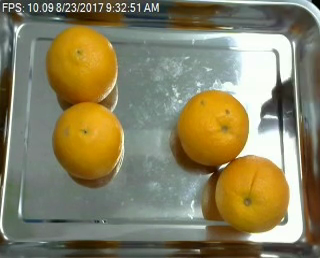Orange: (214, 154, 289, 233), (46, 25, 118, 105), (53, 103, 125, 179), (177, 90, 249, 166)
